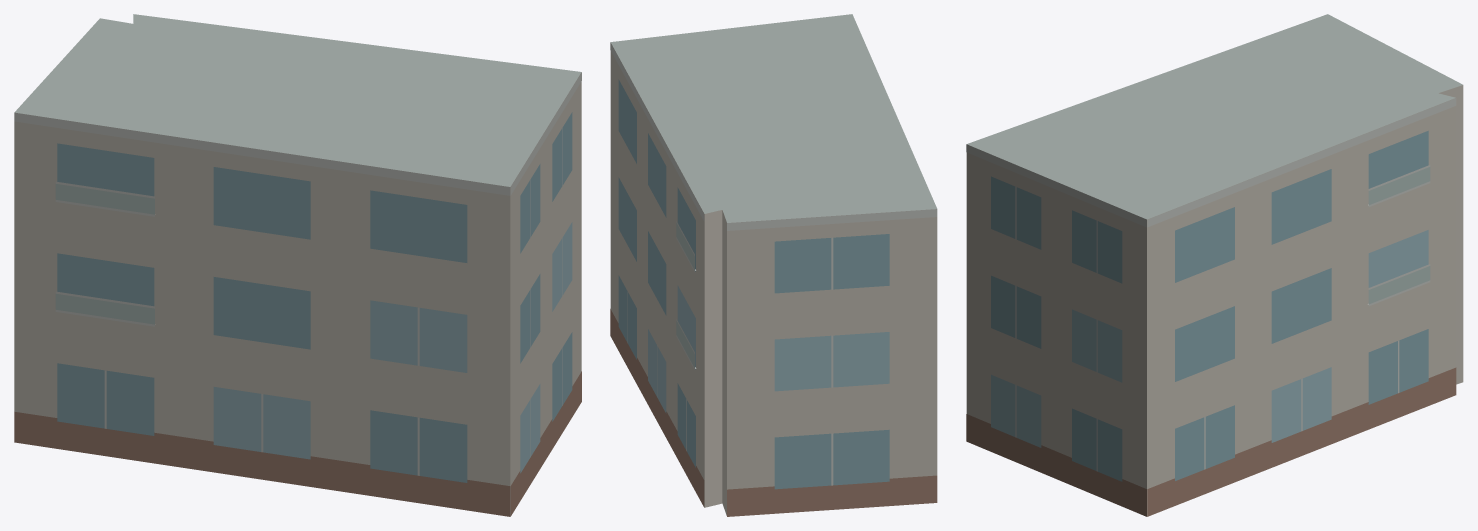
The model's file is survey-upis-32506483.glb.
3 renders of one model, left to right at view 1: azimuth 30°, elevation 25°; view 2: azimuth 150°, elevation 25°; view 3: azimuth 270°, elevation 25°, orthographic. The views are drawn at different scales.
Parts seen in each view (by area): view 1: survey-upis-32506483.tmp; view 2: survey-upis-32506483.tmp; view 3: survey-upis-32506483.tmp.
Part boxes in pixels (<box>): survey-upis-32506483.tmp: <box>14,14,581,516</box>; survey-upis-32506483.tmp: <box>610,14,937,516</box>; survey-upis-32506483.tmp: <box>966,14,1463,516</box>.
Size of the model in its own units: 13.35 by 9 by 13.64.
